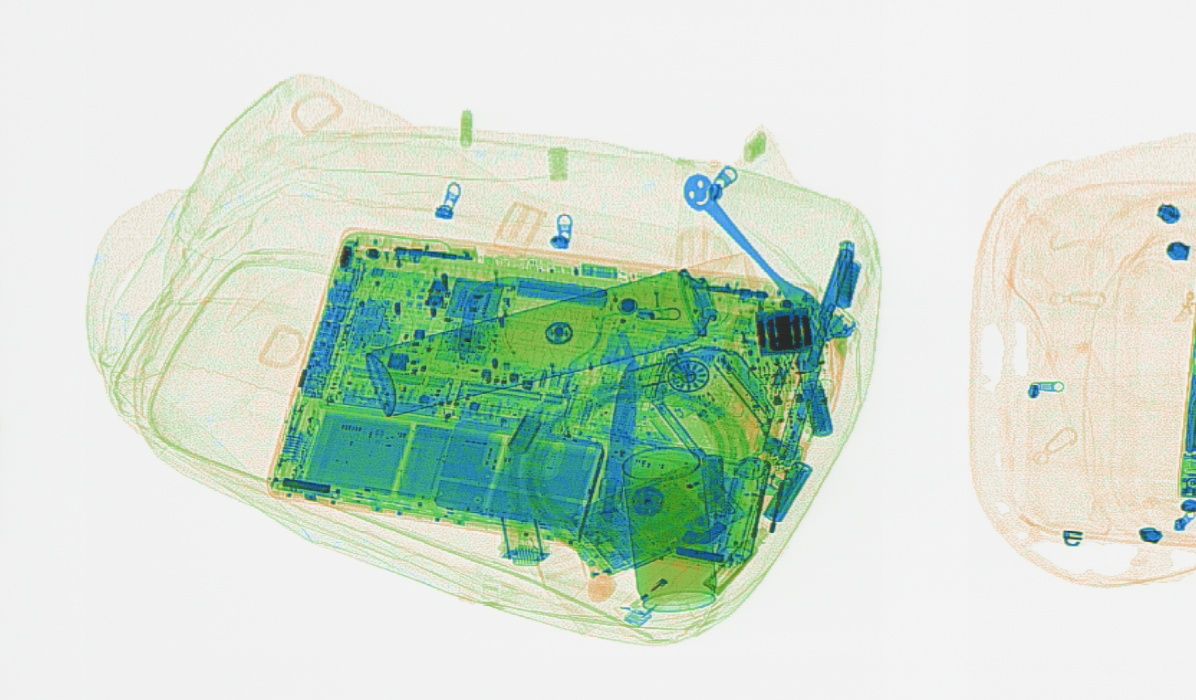knife: (576, 353, 642, 602)
lighter: (615, 541, 704, 629)
pressure: (362, 248, 770, 420)
